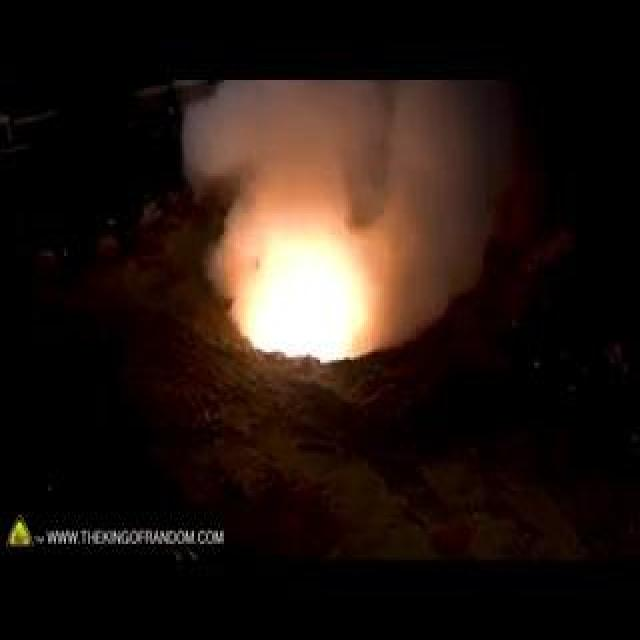Fire: (156, 174, 298, 282)
